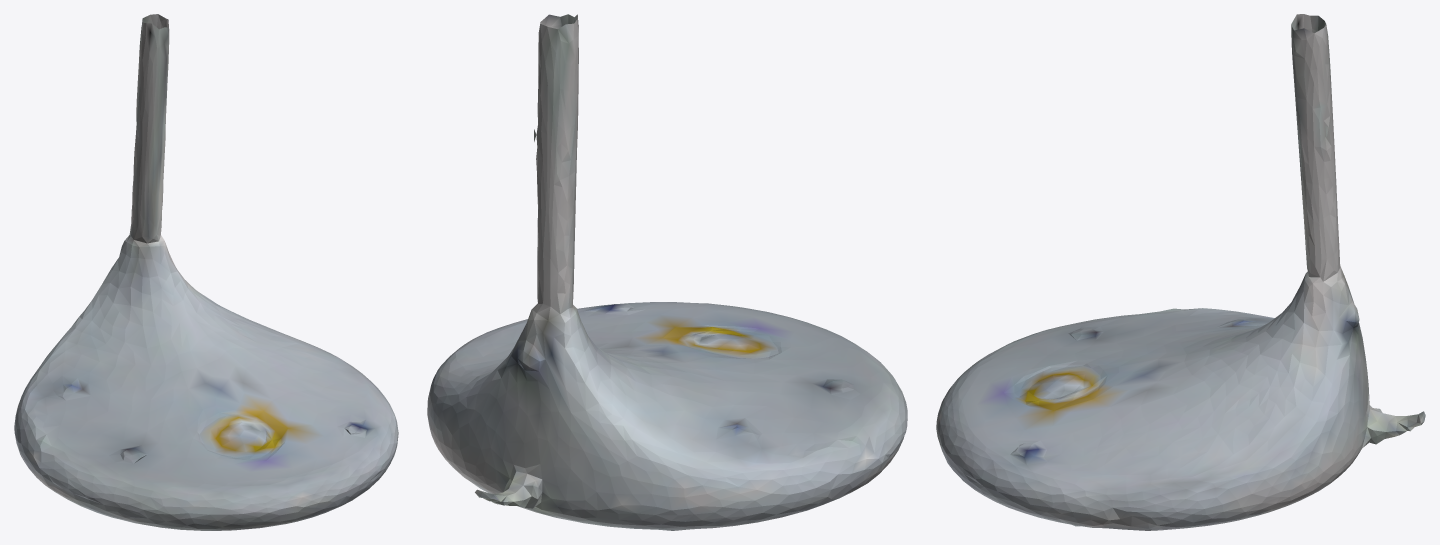
File: scan.obj
The picture shows the model from 3 angles, left to right: view 1: azimuth 30°, elevation 25°; view 2: azimuth 150°, elevation 25°; view 3: azimuth 270°, elevation 25°; orthographic projection. The views are drawn at different scales.
Visible parts, largest first — view 1: scan.ply; view 2: scan.ply; view 3: scan.ply.
Part boxes in pixels (left/top/right/bottom): scan.ply: left=14, top=14, right=398, bottom=530; scan.ply: left=427, top=14, right=907, bottom=530; scan.ply: left=936, top=14, right=1425, bottom=530.
Size of the model in its own units: 0.1604 by 0.18 by 0.179.
